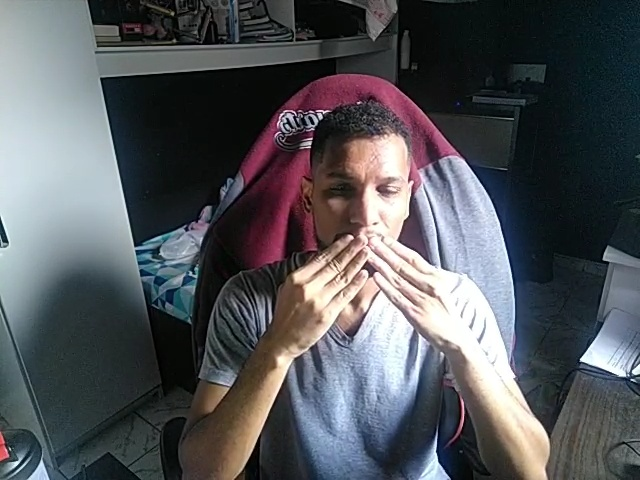obrigado: (263, 230, 458, 362)
